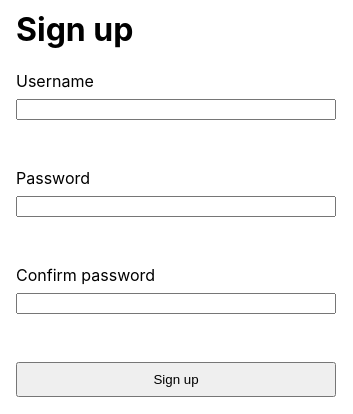
Test case: SignUpPage › should show errors if fields are empty after form was submitted
Step 1. Click the button → (176, 379), box 16,362 -> 336,397
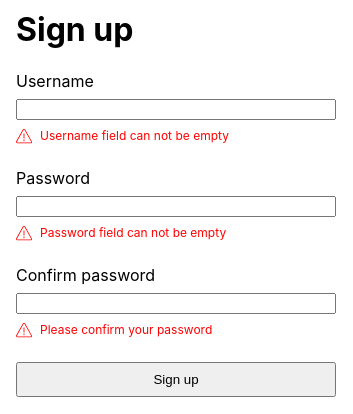
Expected: the text with test id "username-input-error" reads "Username field can not be empty", 40,128 -> 229,143
Expected: the text with test id "password-input-error" reads "Password field can not be empty", 40,225 -> 226,240
Expected: the text with test id "confirm-password-input-error" reads "Please confirm your password", 40,322 -> 212,337
